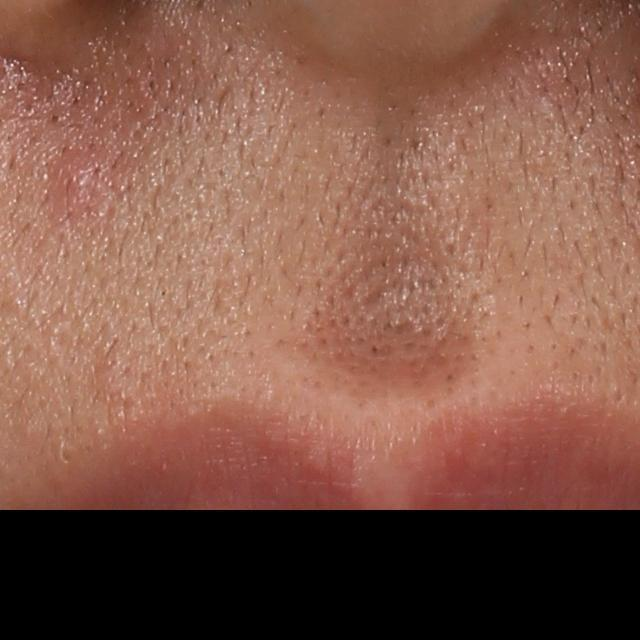comedo: (58, 447, 73, 467)
papule: (44, 150, 107, 220)
